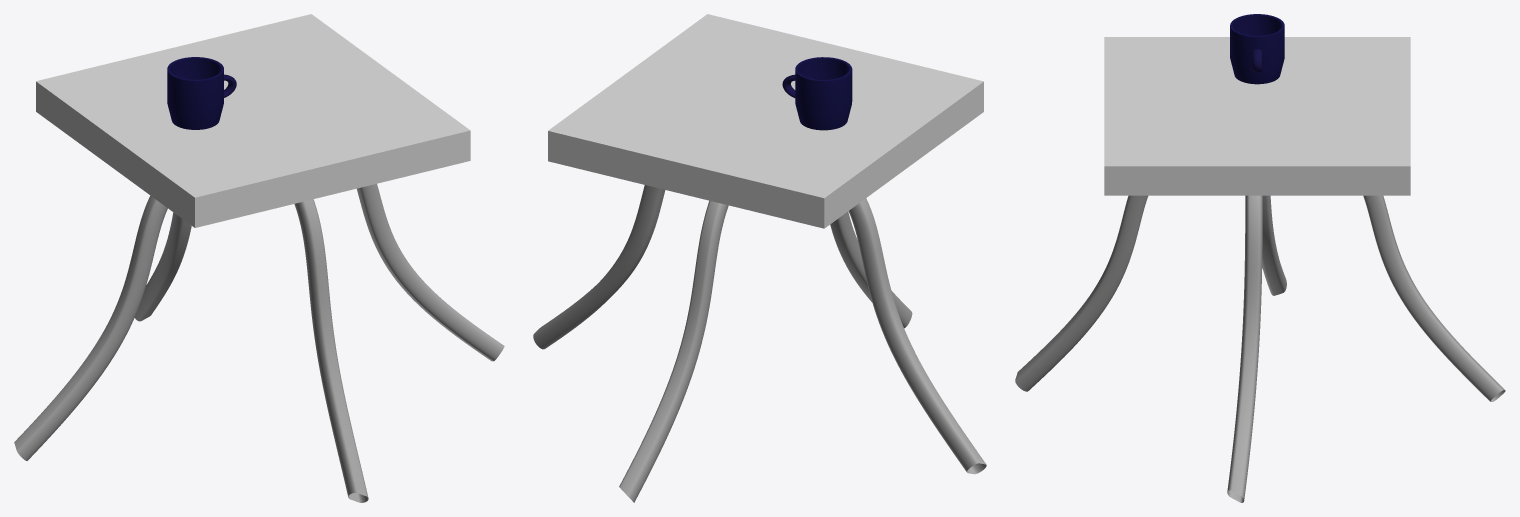
The model's file is kare_sehpa.fbx.
The picture shows the model from 3 angles, left to right: view 1: azimuth 30°, elevation 25°; view 2: azimuth 150°, elevation 25°; view 3: azimuth 270°, elevation 25°; orthographic projection. The views are drawn at different scales.
Parts seen in each view (by area): view 1: Cube, NurbsPath.003, NurbsPath, NurbsPath.002, Cylinder, NurbsPath.001; view 2: Cube, NurbsPath.003, NurbsPath.001, NurbsPath.002, Cylinder, NurbsPath; view 3: Cube, NurbsPath.002, NurbsPath.001, NurbsPath, Cylinder, NurbsPath.003.
Part boxes in pixels (left/top/right/bottom): Cube: left=36, top=14, right=470, bottom=227; NurbsPath.003: left=14, top=195, right=167, bottom=460; NurbsPath: left=294, top=199, right=368, bottom=502; NurbsPath.002: left=357, top=184, right=504, bottom=361; Cylinder: left=167, top=57, right=223, bottom=129; NurbsPath.001: left=134, top=212, right=191, bottom=321; Cube: left=548, top=14, right=983, bottom=228; NurbsPath.003: left=848, top=198, right=986, bottom=474; NurbsPath.001: left=619, top=200, right=728, bottom=502; NurbsPath.002: left=533, top=185, right=665, bottom=349; Cylinder: left=795, top=57, right=852, bottom=130; NurbsPath: left=830, top=211, right=912, bottom=328; Cube: left=1104, top=37, right=1410, bottom=195; NurbsPath.002: left=1227, top=195, right=1262, bottom=502; NurbsPath.001: left=1363, top=195, right=1505, bottom=401; NurbsPath: left=1015, top=195, right=1148, bottom=391; Cylinder: left=1230, top=14, right=1284, bottom=84; NurbsPath.003: left=1262, top=195, right=1286, bottom=295.
Size of the model in its own units: 517 by 378 by 487.
